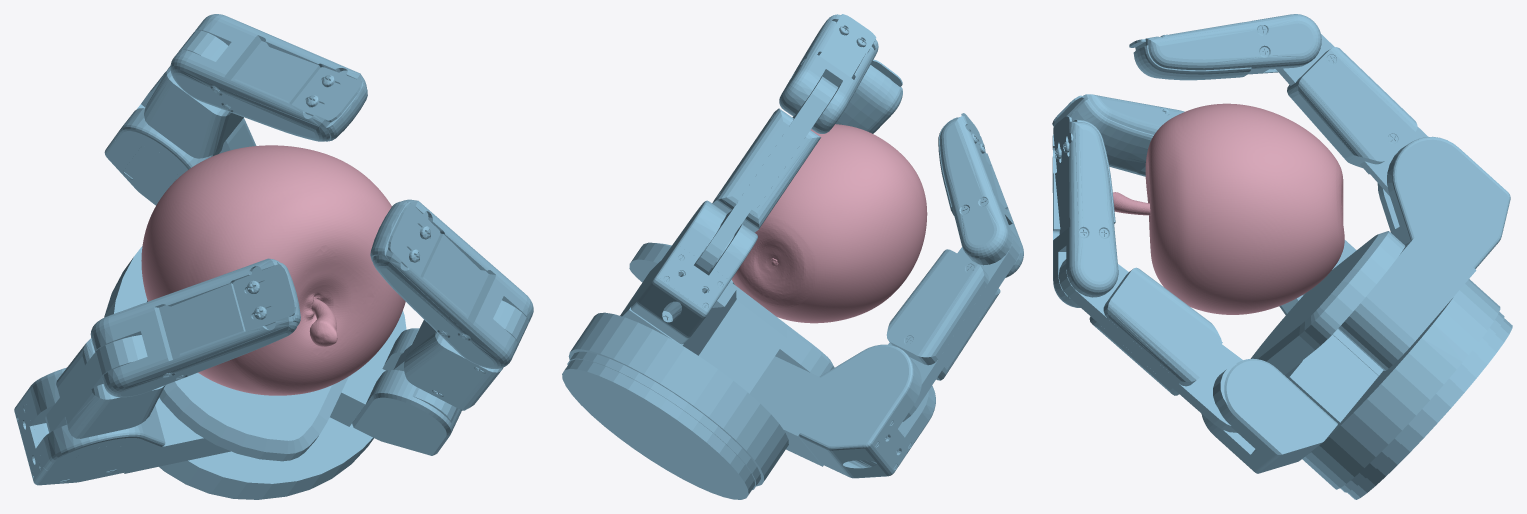
3 renders of one model, left to right at view 1: azimuth 30°, elevation 25°; view 2: azimuth 150°, elevation 25°; view 3: azimuth 270°, elevation 25°, orthographic. The views are drawn at different scales.
Visible parts, largest first — view 1: world, apple.stl; view 2: world, apple.stl; view 3: world, apple.stl.
Part boxes in pixels (x1,y1,x2,y2): world: (14,14,533,499); apple.stl: (141,145,405,395); world: (562,14,1023,499); apple.stl: (731,124,927,323); world: (1052,14,1512,499); apple.stl: (1113,103,1344,314).
Bounding box in the file's own units: 0.1476 × 0.174 × 0.1665.
